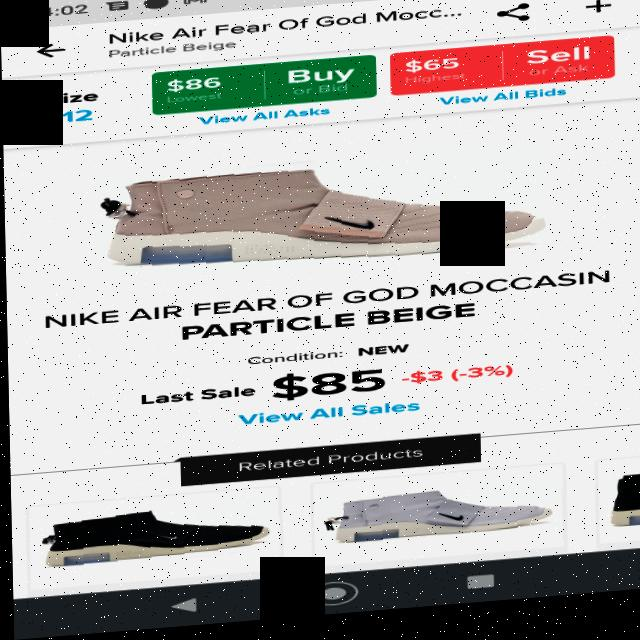shoe: (57, 135, 568, 286), (28, 492, 286, 584), (312, 476, 564, 569)
